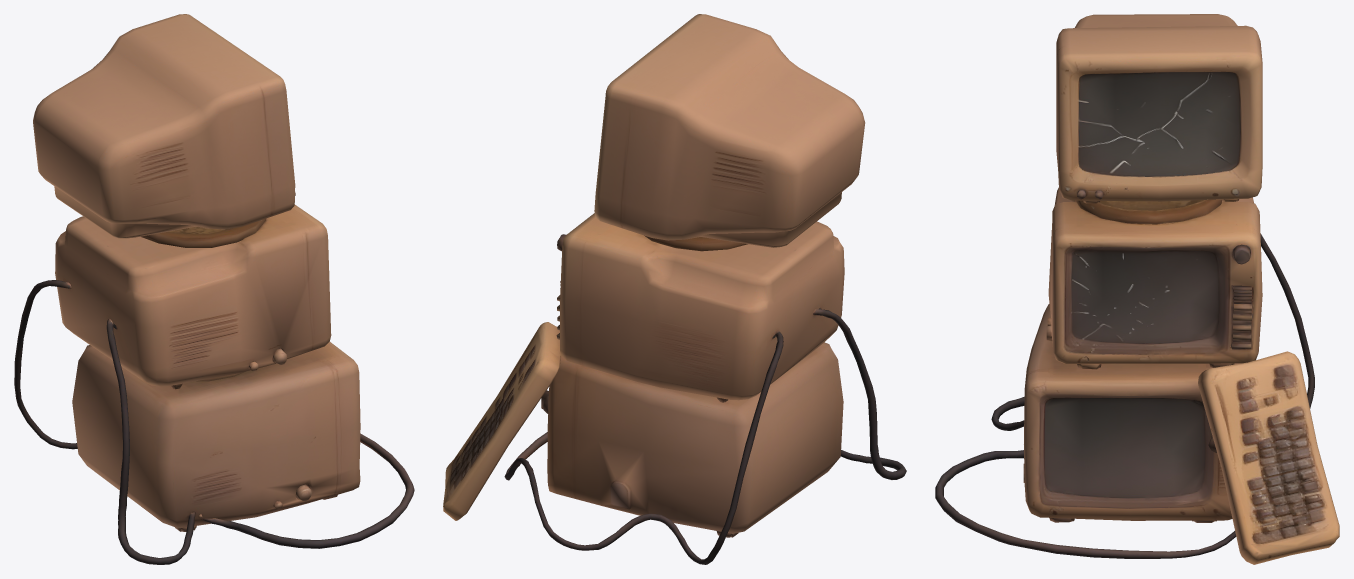
File: retro_computers.glb
3 views of the same model, side by side, from view 1: azimuth 30°, elevation 25°; view 2: azimuth 150°, elevation 25°; view 3: azimuth 270°, elevation 25° (orthographic). The views are drawn at different scales.
Visible parts, largest first — view 1: tripo_node_bbe5ab73-3765-43bc-abbe-f3b5eeafa496; view 2: tripo_node_bbe5ab73-3765-43bc-abbe-f3b5eeafa496; view 3: tripo_node_bbe5ab73-3765-43bc-abbe-f3b5eeafa496.
Part boxes in pixels (x1=…): tripo_node_bbe5ab73-3765-43bc-abbe-f3b5eeafa496: x1=14, y1=14, x2=414, y2=564; tripo_node_bbe5ab73-3765-43bc-abbe-f3b5eeafa496: x1=443, y1=14, x2=906, y2=564; tripo_node_bbe5ab73-3765-43bc-abbe-f3b5eeafa496: x1=935, y1=14, x2=1339, y2=564.
Bounding box in the file's own units: 0.8027 × 0.998 × 0.8301.
Materials: 1 (1 with a texture image).
